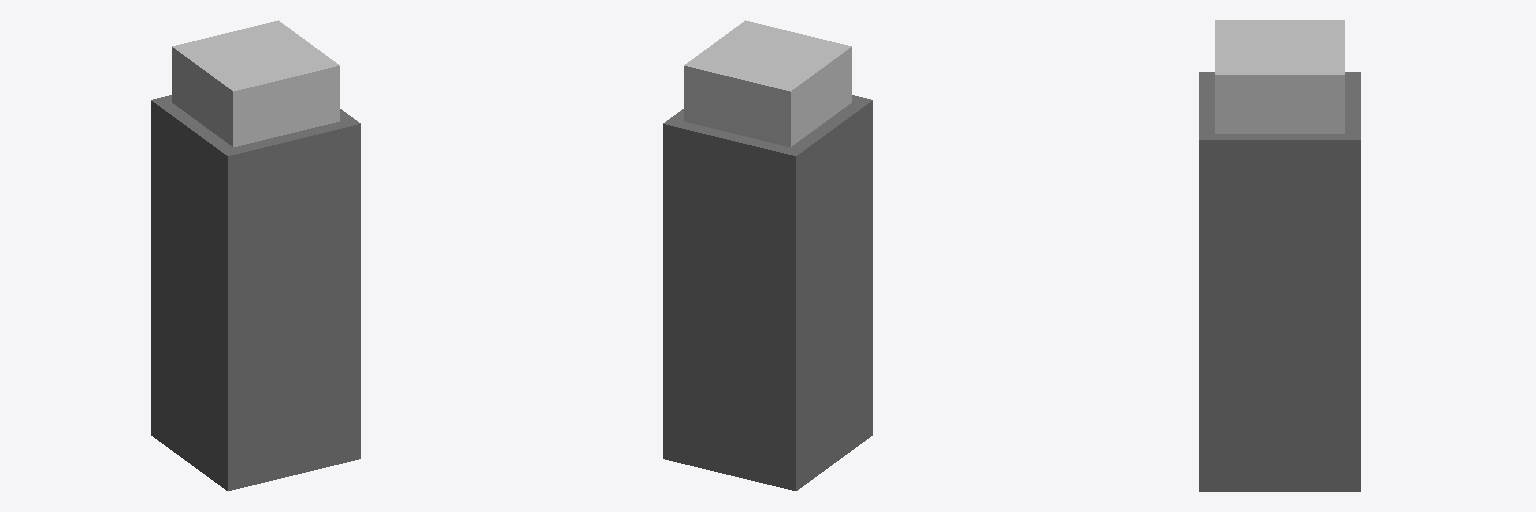
The robot description file, URDF, robot "freight":
<robot name="freight">
  <link name="base_link">
    <inertial>
      <origin rpy="0 0 0" xyz="-0.0036 0.0 0.0014" />
      <mass value="70.1294" />
      <inertia ixx="1.225" ixy="0.0099" ixz="0.0062" iyy="1.2853" iyz="-0.0034" izz="0.987" />
    </inertial>
    <visual>
      <origin rpy="0 0 0" xyz="0 0 0" />
      <geometry>
        <mesh filename="package://meshes/base_link.dae" />
      </geometry>
      <material name="one">
        <color rgba="0.356 0.361 0.376 1" />
      </material>
    </visual>
    <collision>
      <origin rpy="0 0 0" xyz="0 0 0" />
      <geometry>
        <mesh filename="package://meshes/base_link_collision.STL" />
      </geometry>
    </collision>
  </link>
  <link name="r_wheel_link">
    <inertial>
      <origin rpy="0 0 0" xyz="0 0 0" />
      <mass value="4.3542" />
      <inertia ixx="0.0045" ixy="0" ixz="0" iyy="0.005" iyz="0" izz="0.0045" />
    </inertial>
    <visual>
      <origin rpy="0 0 0" xyz="0 0 0" />
      <geometry>
        <mesh filename="package://meshes/r_wheel_link.STL" />
      </geometry>
      <material name="two">
        <color rgba="0.086 0.506 0.767 1" />
      </material>
    </visual>
    <collision>
      <origin rpy="0 0 0" xyz="0 0 0" />
      <geometry>
        <mesh filename="package://meshes/r_wheel_link_collision.STL" />
      </geometry>
    </collision>
  </link>
  <joint name="r_wheel_joint" type="continuous">
    <origin rpy="-6.123E-17 0 0" xyz="0.0012914 -0.18738 0.055325" />
    <parent link="base_link" />
    <child link="r_wheel_link" />
    <axis xyz="0 1 0" />
  <limit effort="8.85" velocity="34.8" /></joint>
  <link name="l_wheel_link">
    <inertial>
      <origin rpy="0 0 0" xyz="0 0 0" />
      <mass value="4.3542" />
      <inertia ixx="0.0045" ixy="0" ixz="0" iyy="0.005" iyz="0" izz="0.0045" />
    </inertial>
    <visual>
      <origin rpy="0 0 0" xyz="0 0 0" />
      <geometry>
        <mesh filename="package://meshes/l_wheel_link.STL" />
      </geometry>
      <material name="three">
        <color rgba="0.086 0.506 0.767 1" />
      </material>
    </visual>
    <collision>
      <origin rpy="0 0 0" xyz="0 0 0" />
      <geometry>
        <mesh filename="package://meshes/l_wheel_link_collision.STL" />
      </geometry>
    </collision>
  </link>
  <joint name="l_wheel_joint" type="continuous">
    <origin rpy="-6.123E-17 0 0" xyz="0.0012914 0.18738 0.055325" />
    <parent link="base_link" />
    <child link="l_wheel_link" />
    <axis xyz="0 1 0" />
  <limit effort="8.85" velocity="34.8" />
</joint>
  <link name="estop_link">
    <inertial>
      <origin rpy="0 0 0" xyz="0.002434512737072 -0.00330608315239905 0.00665139196650039" />
      <mass value="0.00196130439134723" />
      <inertia ixx="3.02810026604417E-07" ixy="-1.5862023118056E-08" ixz="3.16561396557437E-08" iyy="2.93322917127605E-07" iyz="-4.28833522751273E-08" izz="2.28513272627183E-07" />
    </inertial>
    <visual>
      <origin rpy="0 0 0" xyz="0 0 0" />
      <geometry>
        <mesh filename="package://meshes/estop_link.STL" />
      </geometry>
      <material name="four">
        <color rgba="0.8 0 0 1" />
      </material>
    </visual>
    <collision>
      <origin rpy="0 0 0" xyz="0 0 0" />
      <geometry>
        <mesh filename="package://meshes/estop_link.STL" />
      </geometry>
    </collision>
  </link>
  <joint name="estop_joint" type="fixed">
    <origin rpy="1.5708 0 0" xyz="-0.12465 0.23892 0.31127" />
    <parent link="base_link" />
    <child link="estop_link" />
    <axis xyz="0 0 0" />
  </joint>
  <link name="laser_link">
    <inertial>
      <origin rpy="0 0 0" xyz="-0.0306228970175641 0.0007091682908278 0.0551974119471302" />
      <mass value="0.00833634573995571" />
      <inertia ixx="1.01866461240801E-06" ixy="-5.88447626567756E-08" ixz="7.83857244757914E-08" iyy="5.10039589974707E-07" iyz="-7.12664289617235E-09" izz="1.28270671527309E-06" />
    </inertial>
    <visual>
      <origin rpy="0 0 0" xyz="0 0 0" />
      <geometry>
        <mesh filename="package://meshes/laser_link.STL" />
      </geometry>
      <material name="five">
        <color rgba="0.792156862745098 0.819607843137255 0.933333333333333 1" />
      </material>
    </visual>
    <collision>
      <origin rpy="0 0 0" xyz="0 0 0" />
      <geometry>
        <mesh filename="package://meshes/laser_link.STL" />
      </geometry>
    </collision>
  </link>
  <joint name="laser_joint" type="fixed">
    <origin rpy="3.14159265359 0 0" xyz="0.235 0 0.2878" />
    <parent link="base_link" />
    <child link="laser_link" />
    <axis xyz="0 0 0" />
  </joint>
  <link name="base_camera_link" />
  <joint name="base_camera_joint" type="fixed">
    <origin rpy="0 -0.17453292519943 0" xyz="0.2645 0 0.198" />
    <parent link="base_link" />
    <child link="base_camera_link" />
  </joint>
  <link name="base_camera_optical_frame" />
  <joint name="base_camera_optical_joint" type="fixed">
    <origin rpy="1.5707963267966 0 1.5707963267966" xyz="0 0 0" />
    <parent link="base_camera_link" />
    <child link="base_camera_optical_frame" />
  </joint>
  <link name="pedestal">
    <inertial>
      <origin rpy="0 0 0" xyz="-0.0036 0.0 0.0014" />
      <mass value="7.1294" />
      <inertia ixx="1.225" ixy="0.0099" ixz="0.0062" iyy="1.2853" iyz="-0.0034" izz="0.987" />
    </inertial>
    <visual>
      <origin rpy="0 0 0" xyz="0 0 0" />
      <geometry>
        <box size="0.25 0.25 0.6" />
      </geometry>
      <material name="five">
        <color rgba="0.5 0.5 0.5 1" />
      </material>
    </visual>
    <collision>
      <origin rpy="0 0 0" xyz="0 0 0" />
      <geometry>
        <box size="0.3 0.3 1.0" />
      </geometry>
    </collision>
  </link>
  <joint name="base_to_pedestal" type="fixed">
    <origin rpy="0 0 0" xyz="0 0 0.6" />
    <parent link="base_link"/>
    <child link="pedestal"/>
  </joint>
  <link name="lift">
    <inertial>
      <origin rpy="0 0 0" xyz="-0.0036 0.0 0.0014" />
      <mass value="7.1294" />
      <inertia ixx="1.225" ixy="0.0099" ixz="0.0062" iyy="1.2853" iyz="-0.0034" izz="0.987" />
    </inertial>
    <visual>
      <origin rpy="0 0 0" xyz="0 0 0" />
      <geometry>
        <box size="0.2 0.2 0.4" />
      </geometry>
      <material name="six">
        <color rgba="0.8 0.8 0.8 1" />
      </material>
    </visual>
    <collision>
      <origin rpy="0 0 0" xyz="0 0 0" />
      <geometry>
        <box size="0.2 0.2 0.4" />
      </geometry>
    </collision>
    </link>
  <joint name="pedestal_to_lift" type="prismatic">
    <parent link="pedestal"/>
    <child link="lift"/>
    <origin rpy="0 0 0" xyz="0 0 0.2"/>
    <axis xyz="0 0 1"/>
    <limit lower="0.0" upper="0.3" effort="30000" velocity="1000"/>
  </joint>
  
</robot>

--- Facts derived from the render (not from the file) ---
The picture shows the robot from 3 angles, left to right: view 1: azimuth 30°, elevation 25°; view 2: azimuth 150°, elevation 25°; view 3: azimuth 270°, elevation 25°; orthographic projection.
Model freight with 9 links and 8 joints (2 continuous, 1 prismatic, 5 fixed), rooted at base_link, posed all joints at 0.
Links seen in each view (by area): view 1: pedestal, lift; view 2: pedestal, lift; view 3: pedestal, lift.
Link boxes in pixels (box(x1,y1,x2,y2)): pedestal: box(151, 95, 360, 490); lift: box(172, 20, 339, 146); pedestal: box(663, 95, 872, 490); lift: box(684, 20, 851, 146); pedestal: box(1199, 72, 1360, 491); lift: box(1215, 20, 1344, 133).
Bounding box of the posed robot: 0.25 × 0.25 × 0.7 m (x, y, z).
0 mesh visuals loaded from 5 distinct referenced files (none loaded); not drawn: 5 (reference not matched to a file when rendering).